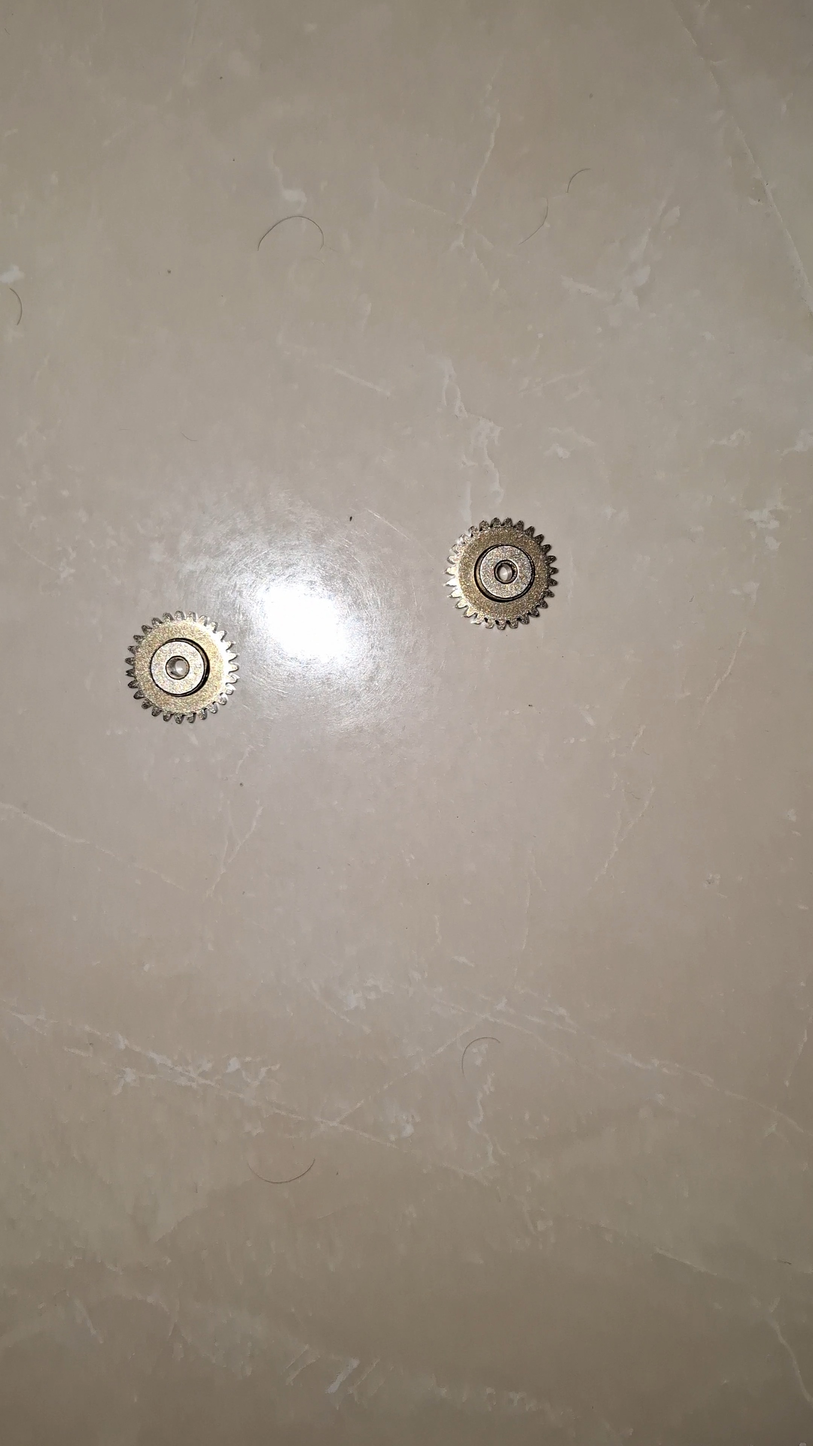spur gear: (126, 612, 238, 723), (447, 518, 557, 629)
